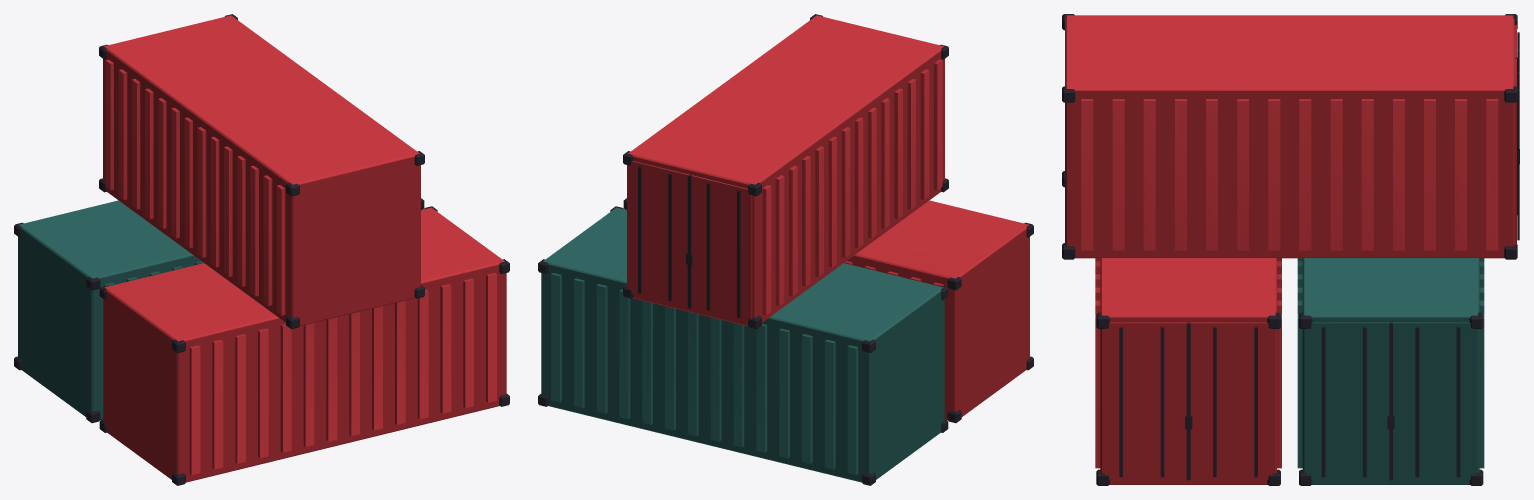
The model's file is prop.cure-container-stack.glb.
3 renders of one model, left to right at view 1: azimuth 30°, elevation 25°; view 2: azimuth 150°, elevation 25°; view 3: azimuth 270°, elevation 25°, orthographic. The views are drawn at different scales.
Parts seen in each view (by area): view 1: body; view 2: body; view 3: body.
Boxes of the visible parts, left/top/right/bottom form: body: left=14, top=14, right=509, bottom=485; body: left=538, top=14, right=1033, bottom=485; body: left=1062, top=14, right=1519, bottom=485.
Size of the model in its own units: 6.11 by 4.99 by 6.11.
